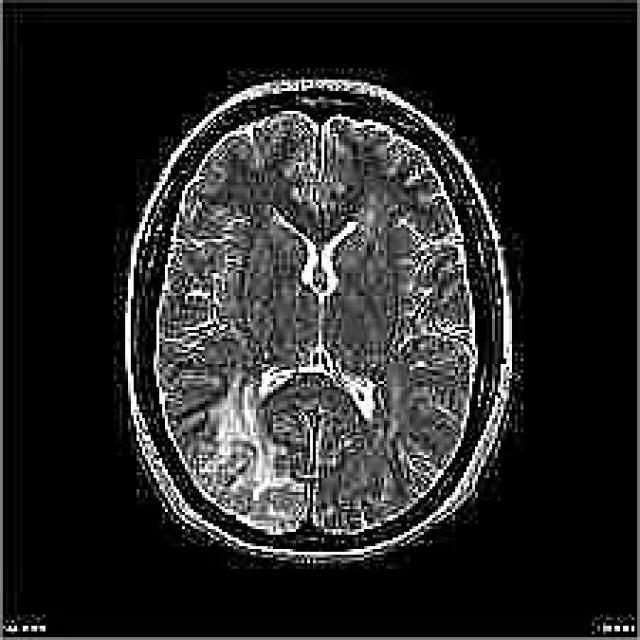notumor: (125, 77, 521, 563)
